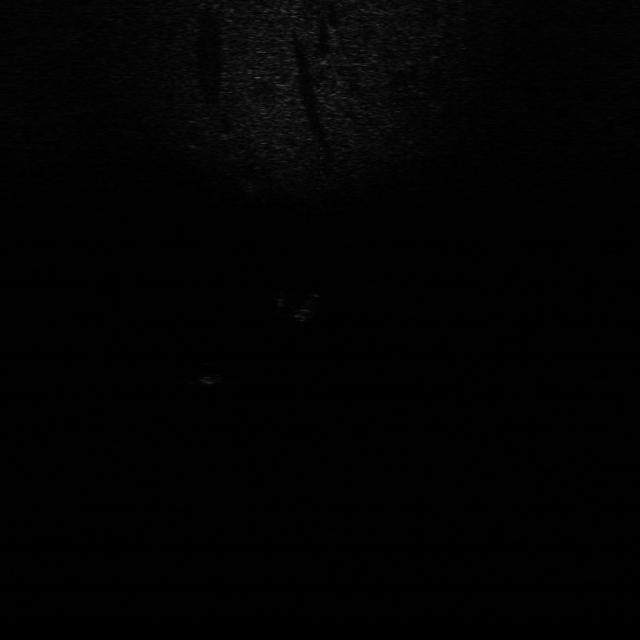ball: (190, 360, 226, 388)
human body: (274, 288, 330, 322)
